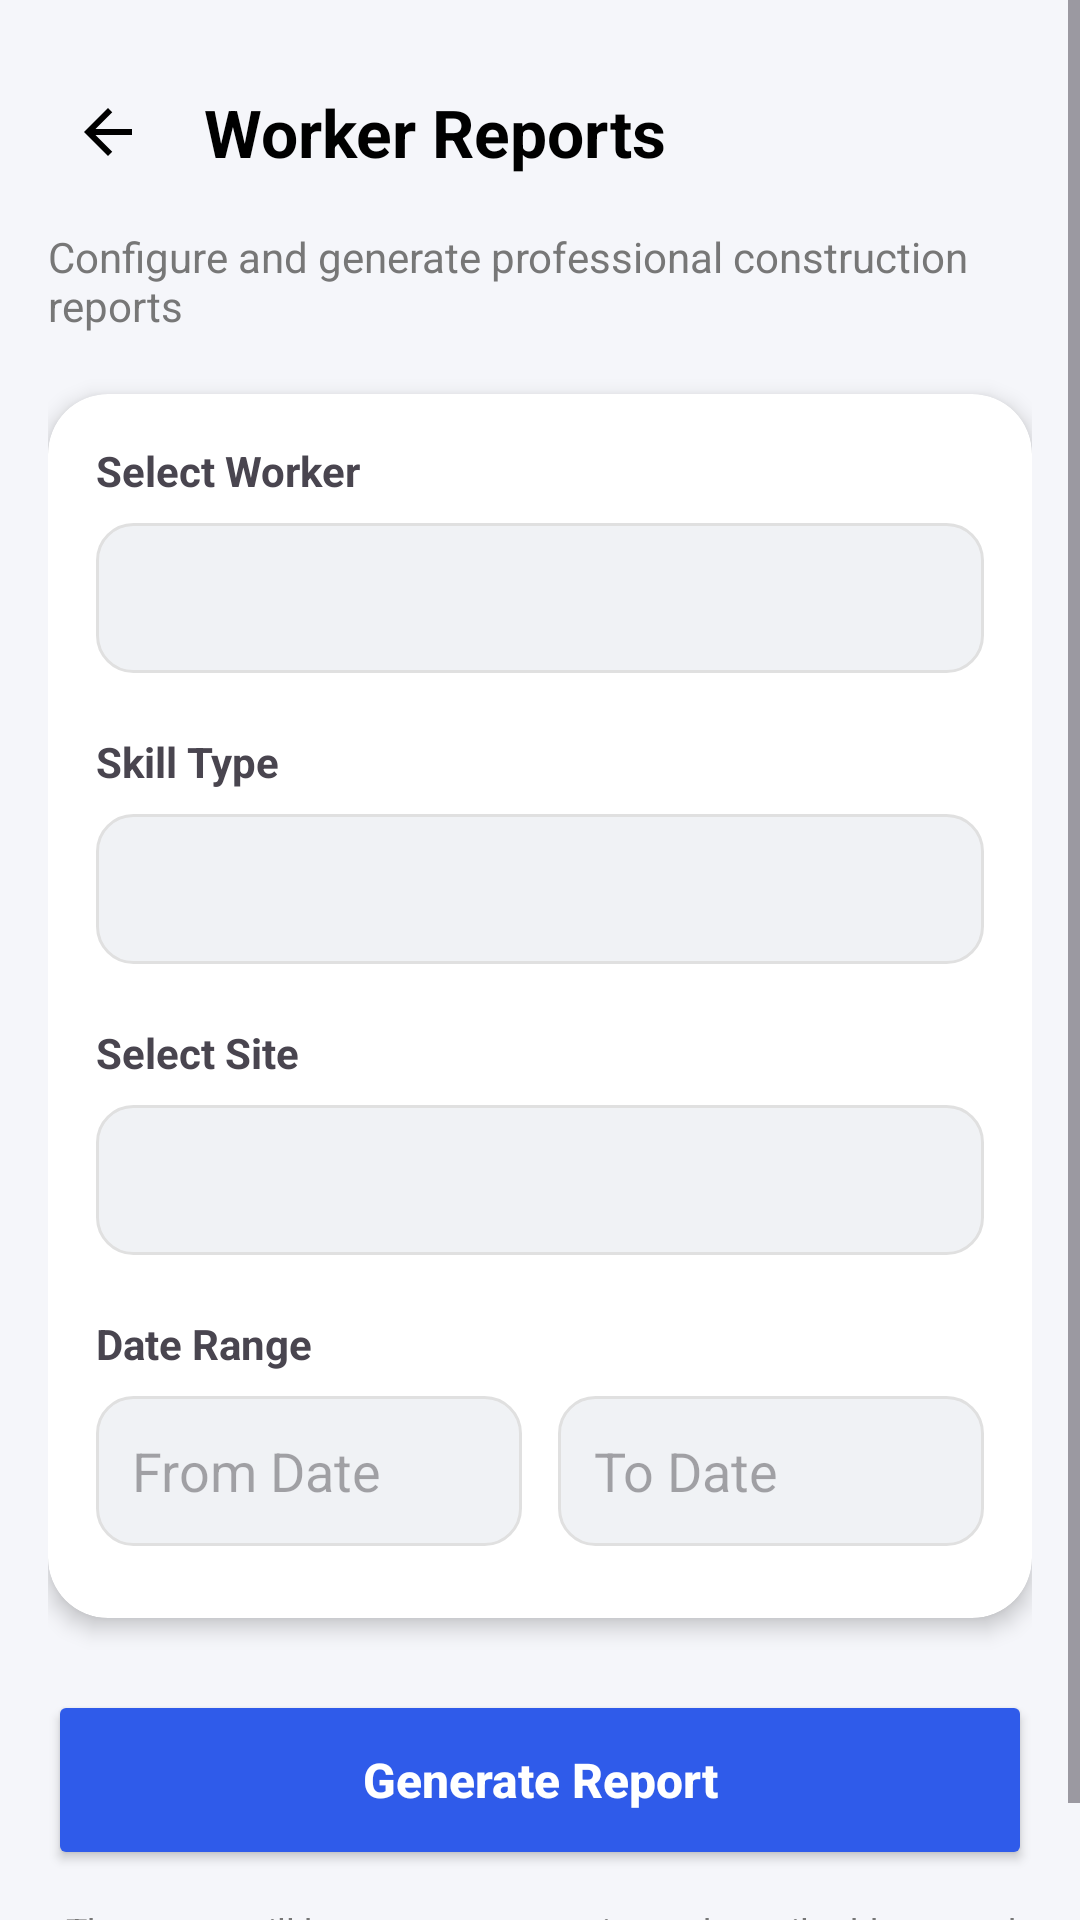

Where to tap for icons on this 1080px x 1920px app screen, as point (x, y):
Back: point (108, 132)
